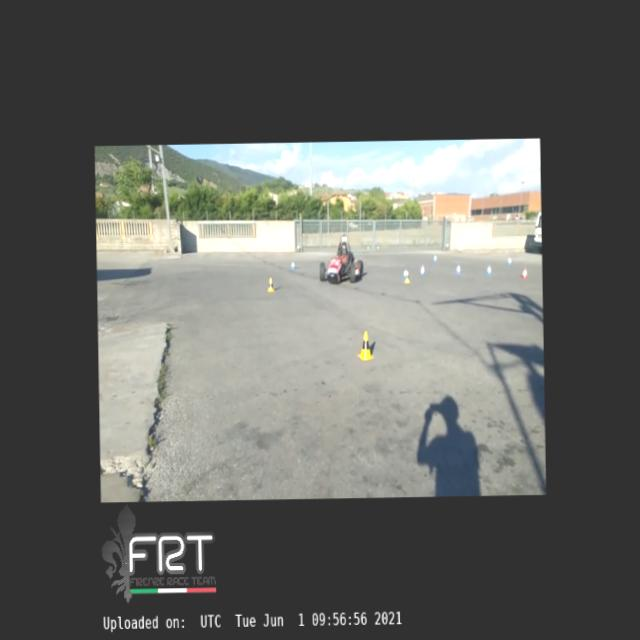blue_cone: (504, 255, 512, 266), (486, 262, 492, 274), (402, 267, 408, 278), (290, 260, 296, 270), (432, 254, 438, 264), (419, 264, 424, 274), (456, 263, 460, 273)
orange_cone: (519, 266, 526, 278)
yellow_cone: (356, 331, 374, 360), (266, 278, 274, 290), (404, 271, 410, 283)
